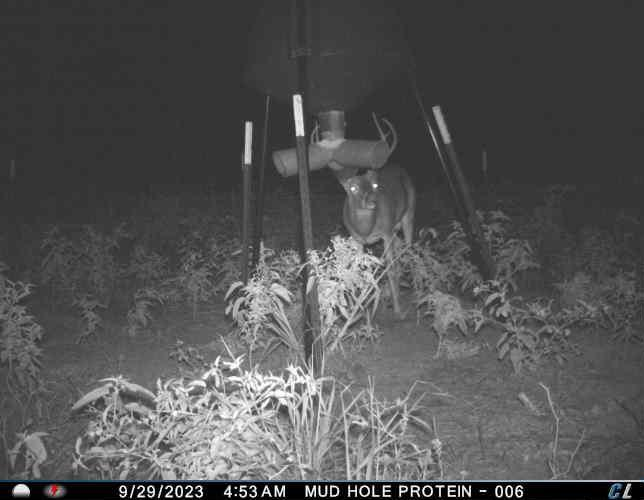Deer: (310, 112, 422, 315)
